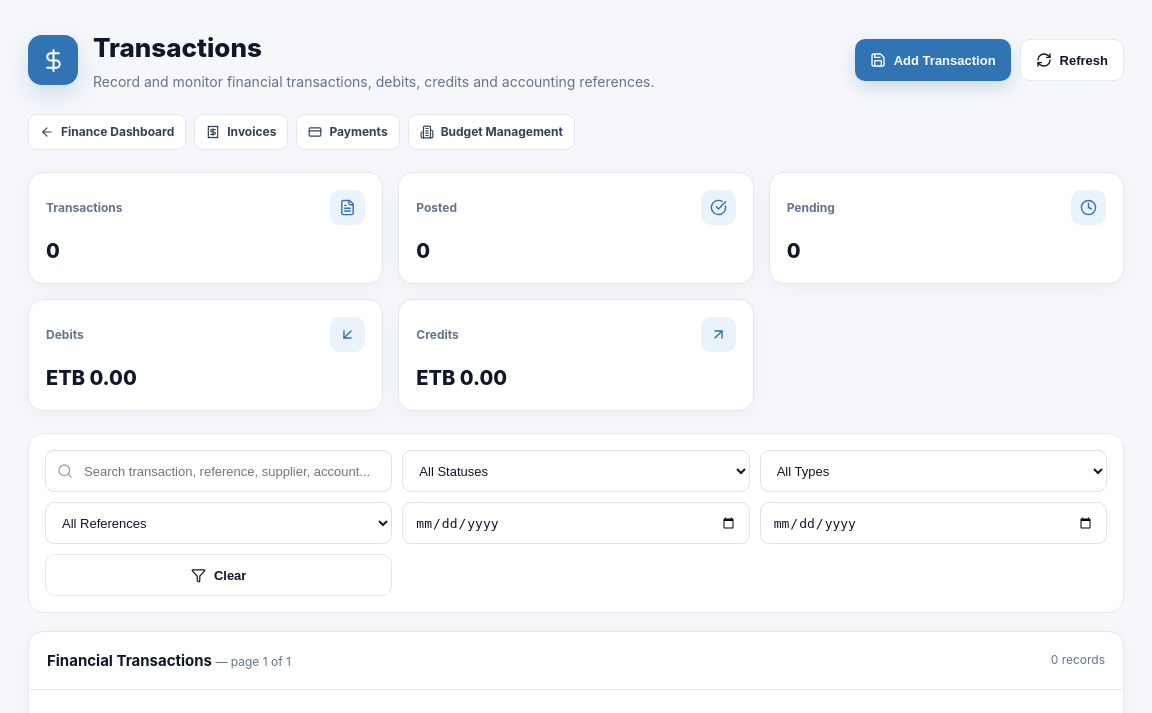
passes status filters to the backend and surfaces API errors
The image size is (1152, 713).
Select "Posted" in the 1st dropdown at (576, 471), box [402,450,750,492]
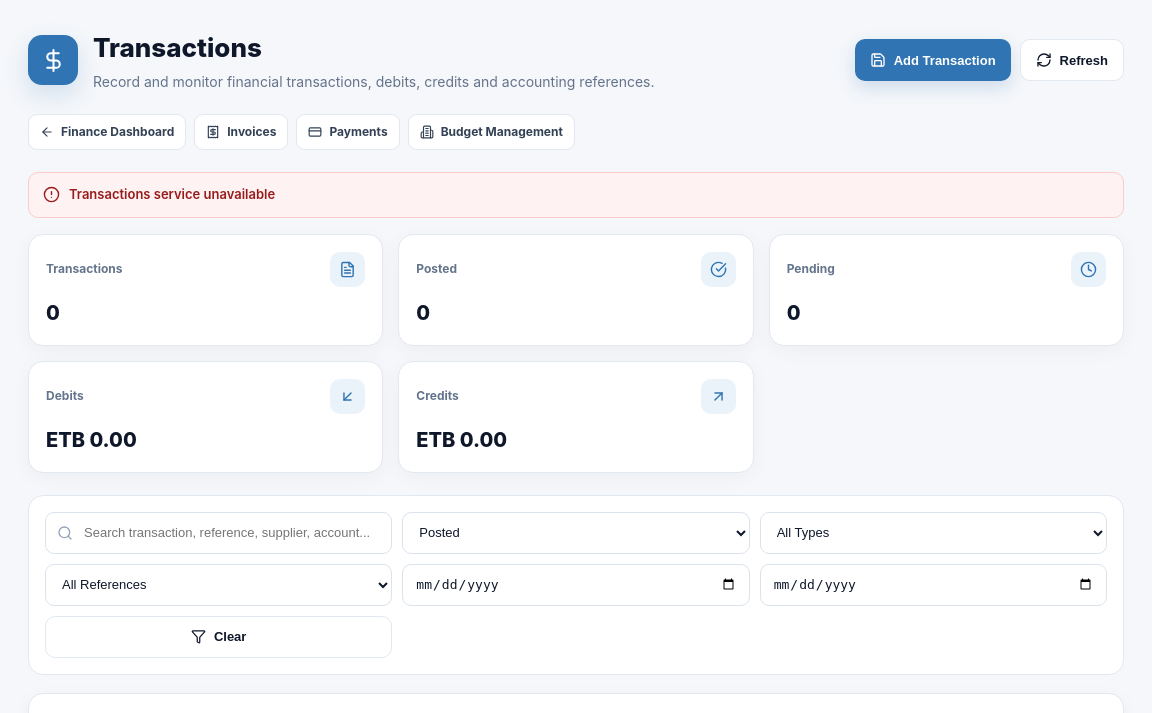
Expected: the text "Transactions service unavailable" is shown, [69,185,275,204]
